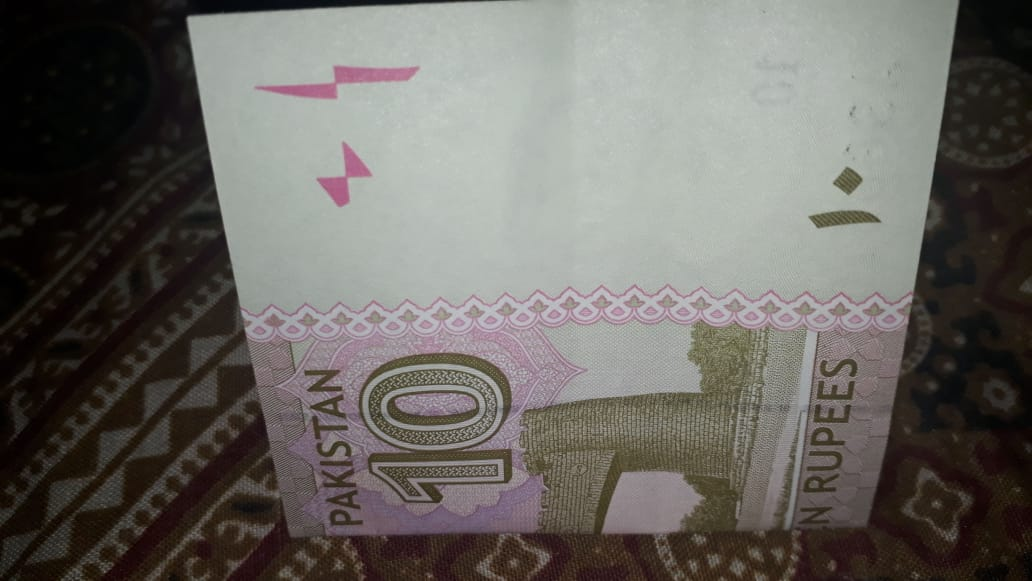10 rupee: (172, 12, 947, 569)
